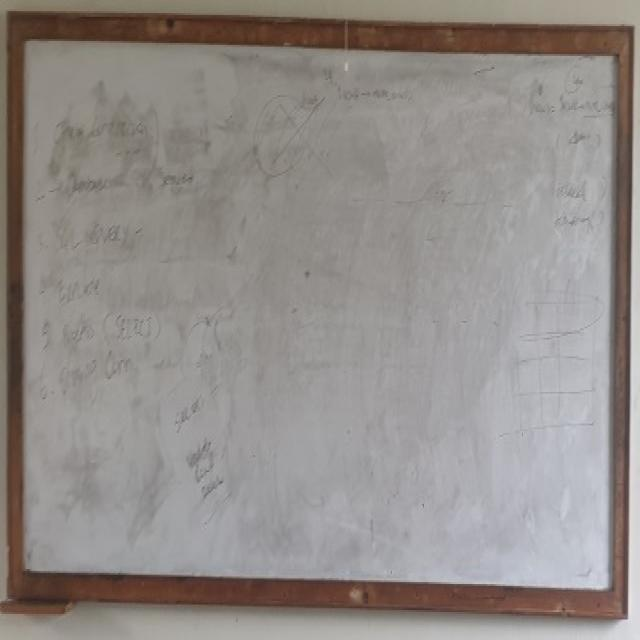White-board: (16, 23, 624, 608)
